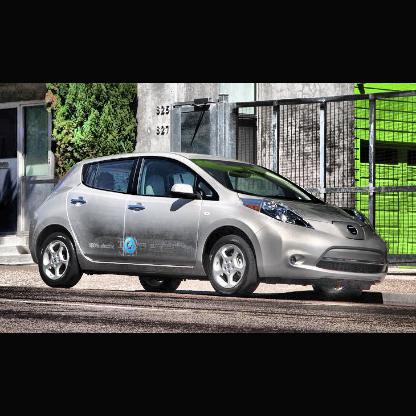Nissan Leaf Hatchback 2012: (30, 151, 390, 298)
